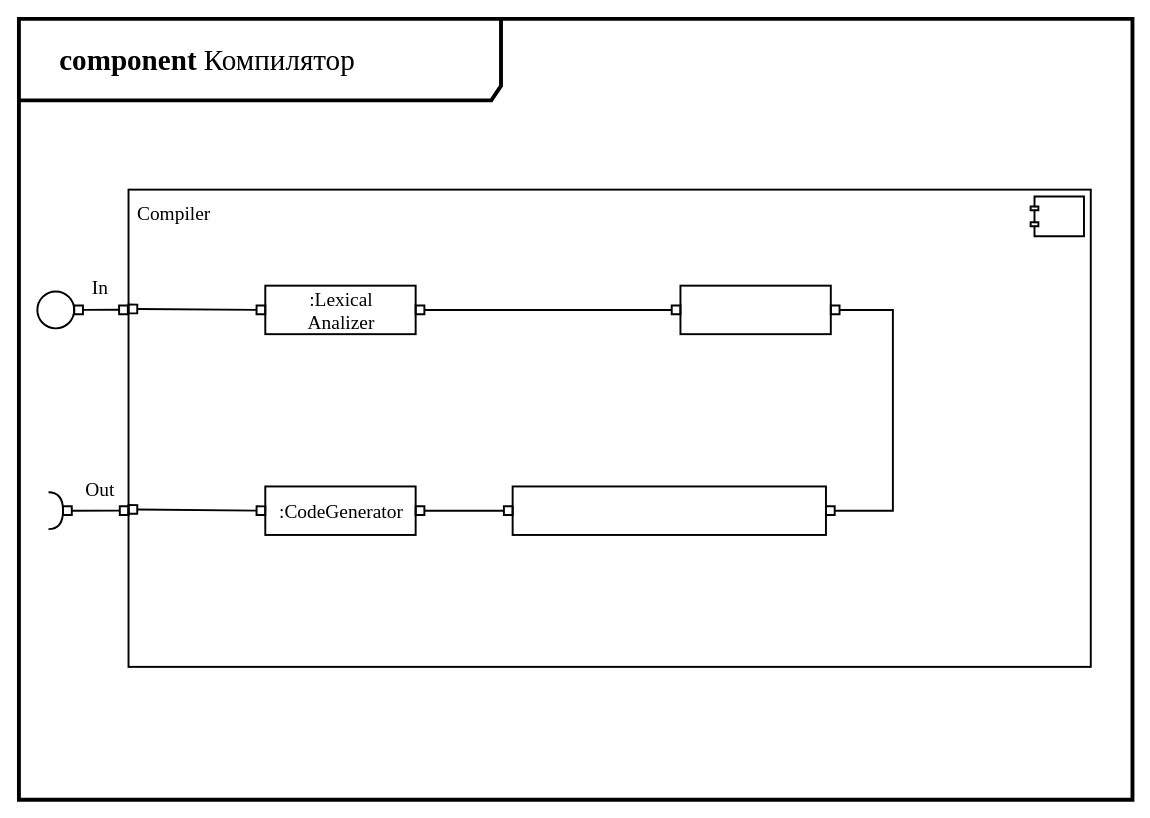
The diagram is 1150 pixels wide and 818 high, and some of its shapes have lost their labels. Here are the shapes that lost their labels. From the top down, the box of each, then its label:
(679, 284, 831, 335): :Syntax Analizer
(511, 485, 826, 535): :Semantic Analizer
